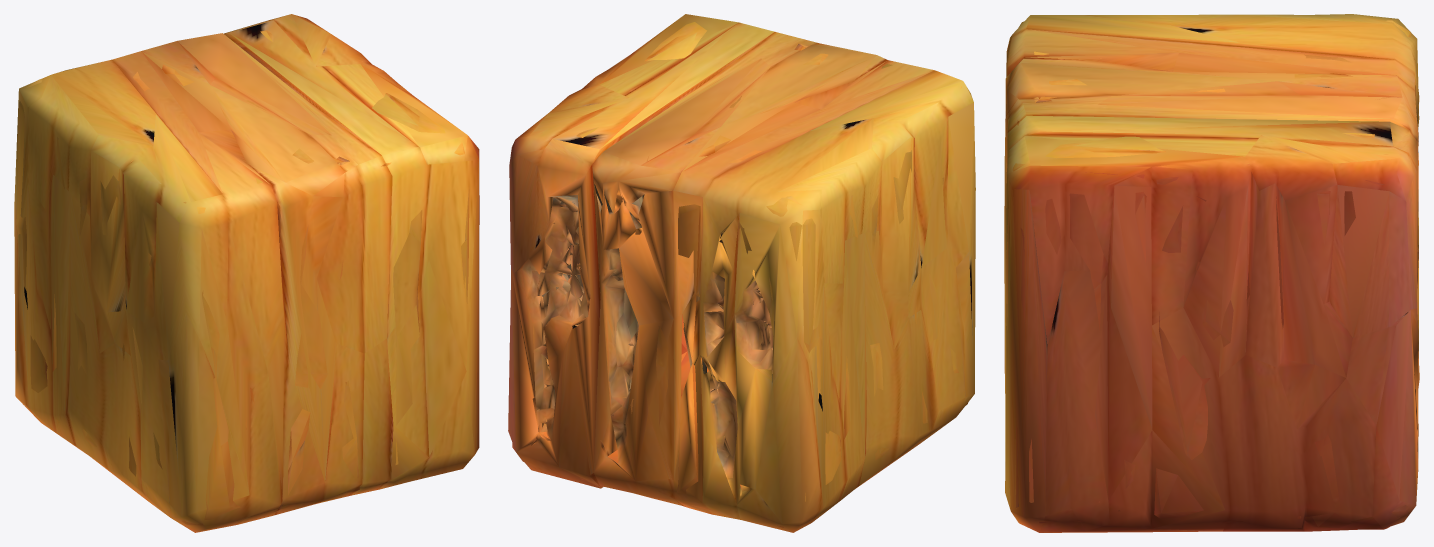
Rendered from ahsap_kup_2.glb.
The picture shows the model from 3 angles, left to right: view 1: azimuth 30°, elevation 25°; view 2: azimuth 150°, elevation 25°; view 3: azimuth 270°, elevation 25°; orthographic projection. The views are drawn at different scales.
Parts seen in each view (by area): view 1: tripo_node_0109596a-2955-4882-a872-2ee54a883a45; view 2: tripo_node_0109596a-2955-4882-a872-2ee54a883a45; view 3: tripo_node_0109596a-2955-4882-a872-2ee54a883a45.
Boxes of the visible parts, box(x1,y1,x2,y2) form: tripo_node_0109596a-2955-4882-a872-2ee54a883a45: box(14, 14, 479, 532); tripo_node_0109596a-2955-4882-a872-2ee54a883a45: box(508, 14, 975, 532); tripo_node_0109596a-2955-4882-a872-2ee54a883a45: box(1004, 14, 1419, 532).
Size of the model in its own units: 0.9196 by 0.9771 by 0.9758.
1 material, 1 textured.
